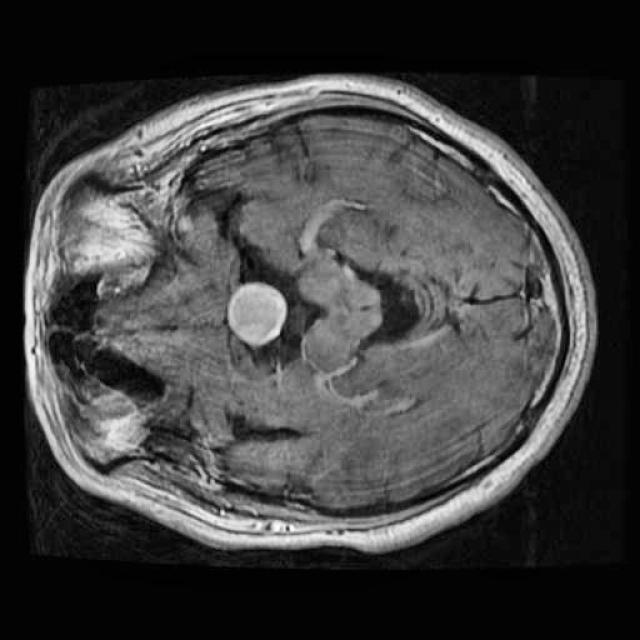Tumor: (219, 266, 298, 356)
